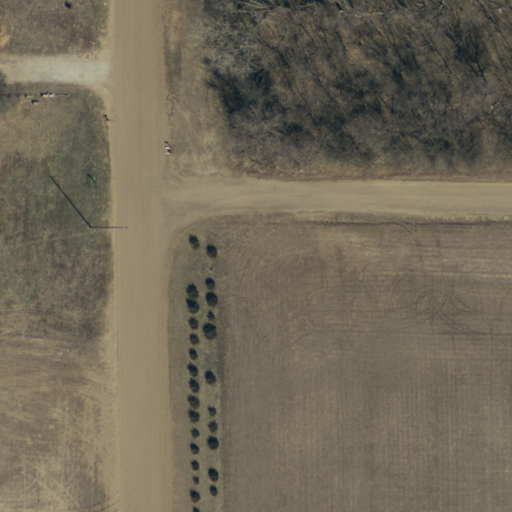DT: (79, 213, 139, 245)
